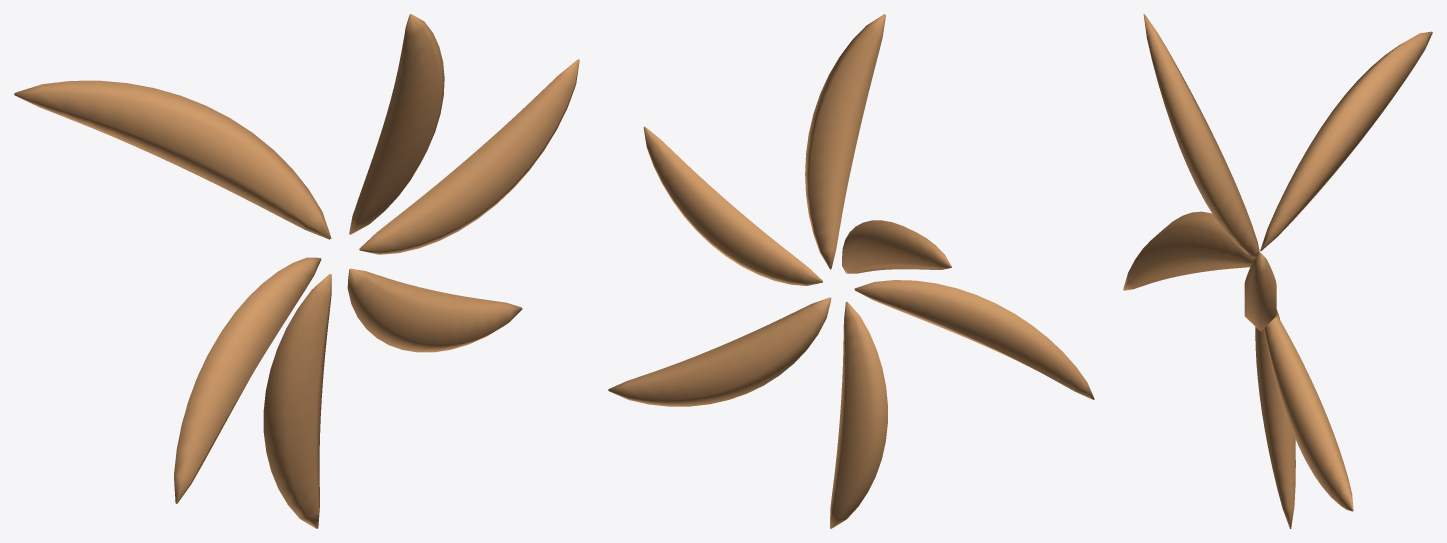
The model's file is release-burst.glb.
3 views of the same model, side by side, from view 1: azimuth 30°, elevation 25°; view 2: azimuth 150°, elevation 25°; view 3: azimuth 270°, elevation 25° (orthographic). The views are drawn at different scales.
Parts seen in each view (by area): view 1: burst-petal-0; view 2: burst-petal-0; view 3: burst-petal-0.
Boxes of the visible parts, <box> form: burst-petal-0: <box>14,14,579,528</box>; burst-petal-0: <box>608,14,1094,528</box>; burst-petal-0: <box>1123,14,1432,528</box>.
Bounding box in the file's own units: 1.23 × 1.4 × 0.7542.
